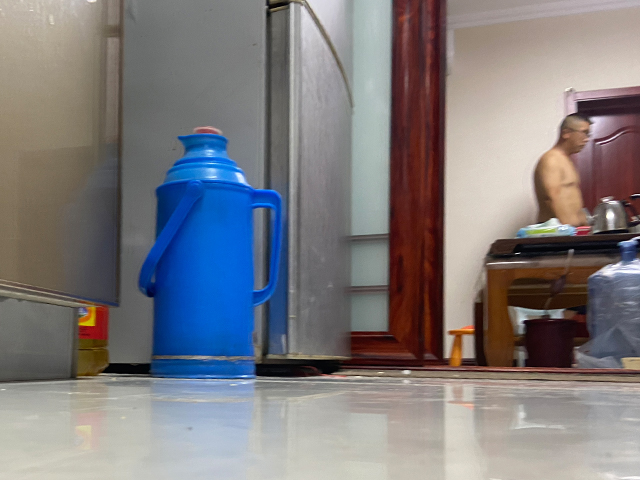table: (485, 253, 591, 367)
